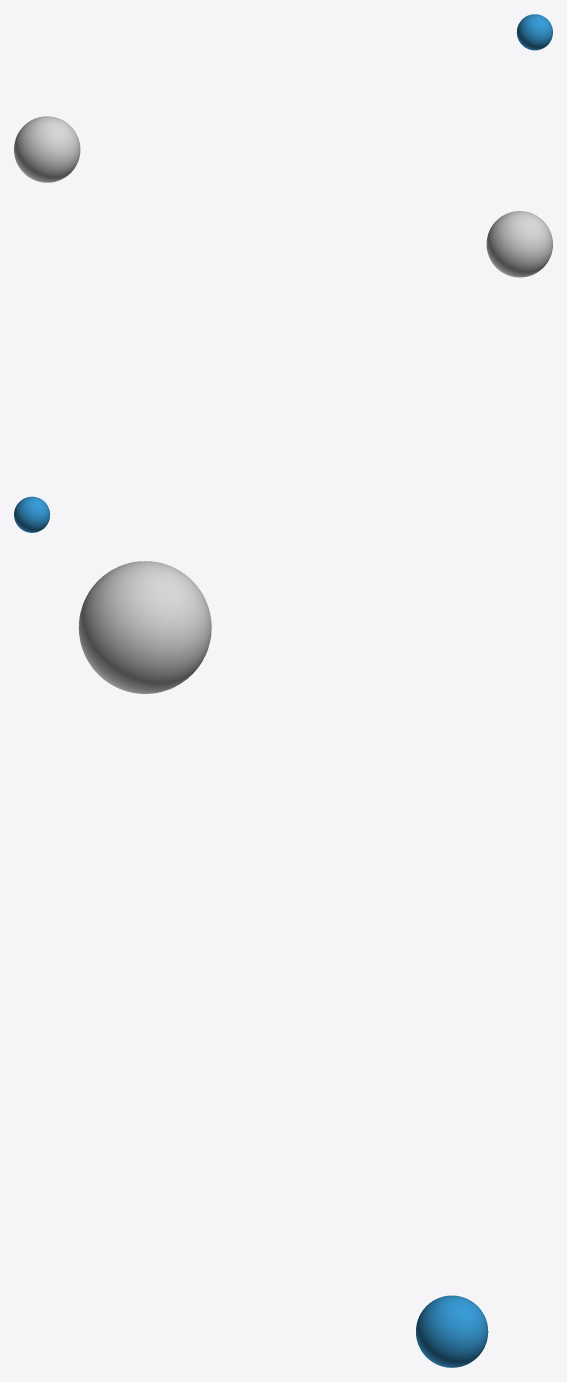
File: Erde46final.fbx
The picture shows the model from 3 angles, top to bottom: view 1: azimuth 30°, elevation 25°; view 2: azimuth 210°, elevation 25°; view 3: azimuth 270°, elevation 25°; orthographic projection. The views are drawn at different scales.
Visible parts, largest first — view 1: Sphere_003, Sphere_001, Sphere_002; view 2: Sphere_003, Sphere_001, Sphere_002; view 3: Sphere_003, Sphere_001, Sphere_002.
Part boxes in pixels (x1,y1,x2,y2): Sphere_003: (14, 116, 80, 182); Sphere_001: (516, 14, 552, 50); Sphere_002: (517, 15, 552, 49); Sphere_003: (486, 211, 552, 277); Sphere_001: (14, 496, 50, 532); Sphere_002: (14, 497, 49, 531); Sphere_003: (78, 561, 211, 693); Sphere_001: (416, 1295, 488, 1367); Sphere_002: (416, 1296, 487, 1366).
Bounding box in the file's own units: 39.41 × 7.62 × 11.48.
